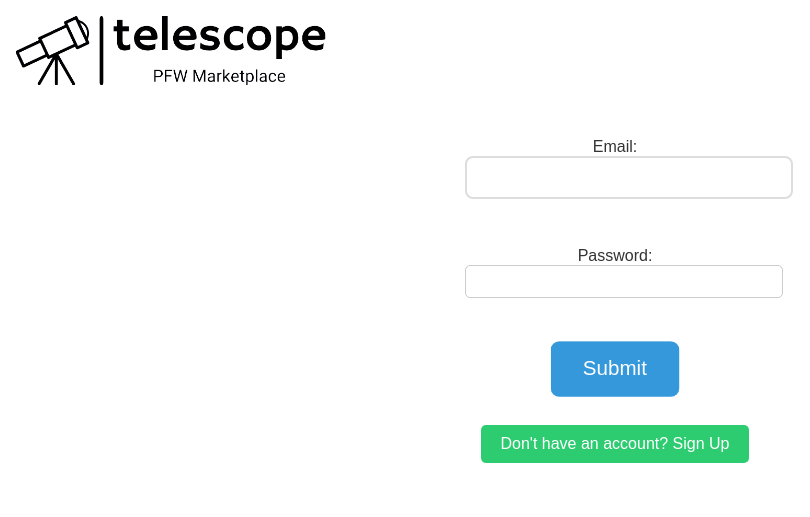
Test case: Login Page › should show an error message for invalid credentials
This screenshot has width=810, height=517.
Note: Enter invalid credentials and submit the form
Type "invalid@example.com" into the field labelled "Email:" at [629, 178], box top-left (465, 156), bottom-right (793, 199)
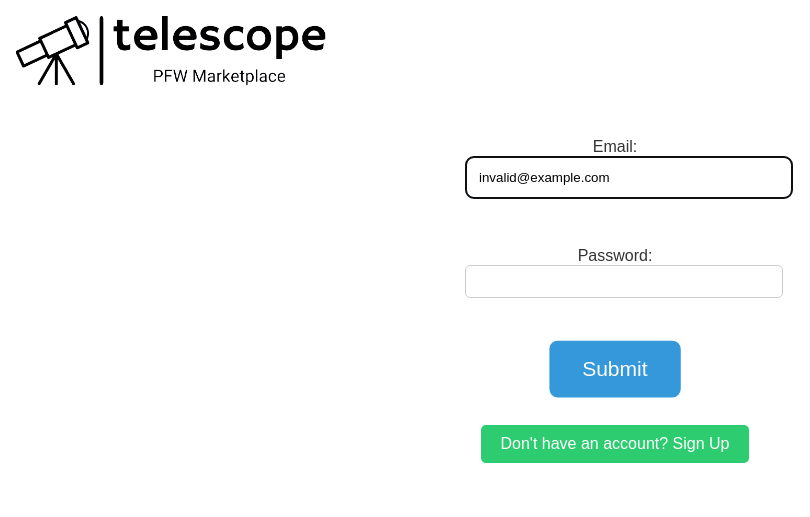
Type "invalidpassword" into the password field labelled "Password:" at [624, 282], box top-left (465, 265), bottom-right (783, 298)
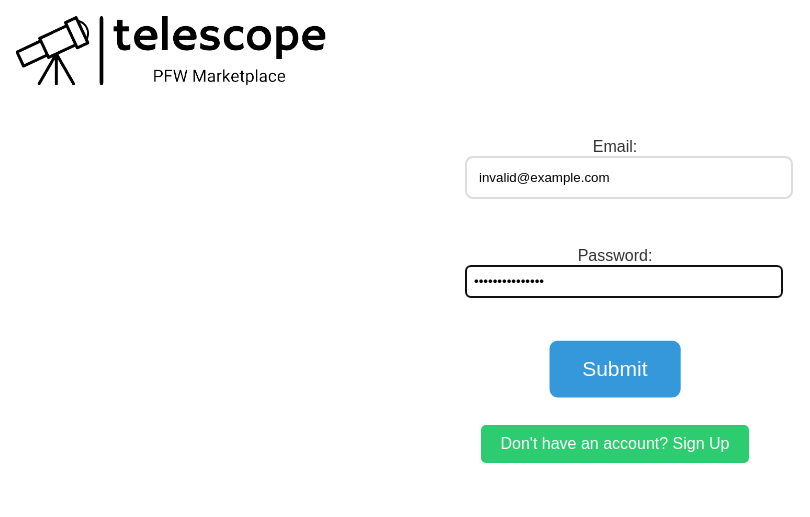
Click the button with class "submit-button" at [616, 369], box top-left (550, 340), bottom-right (681, 397)
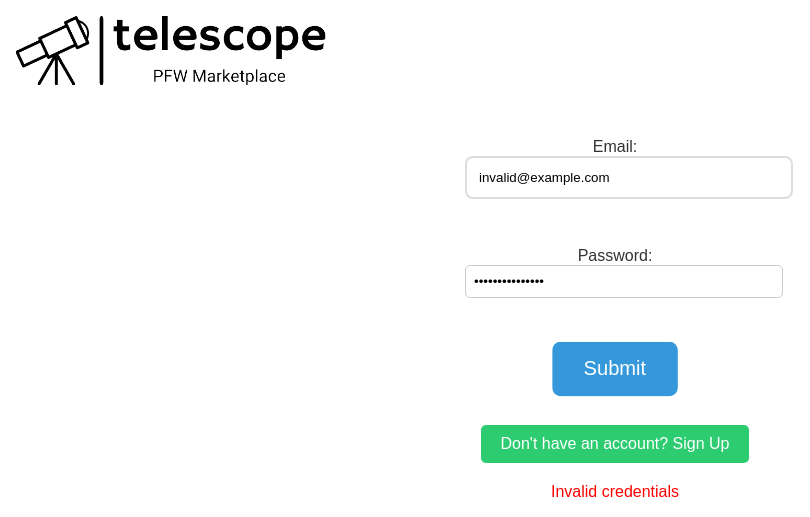
Now the text with class "error-message" reads "Invalid credentials", box top-left (551, 483), bottom-right (679, 500)
